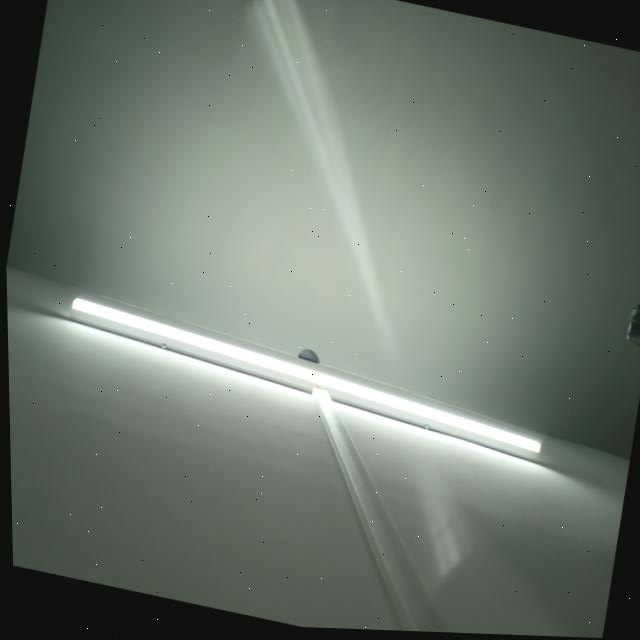fluorescent tube: (54, 282, 561, 472)
